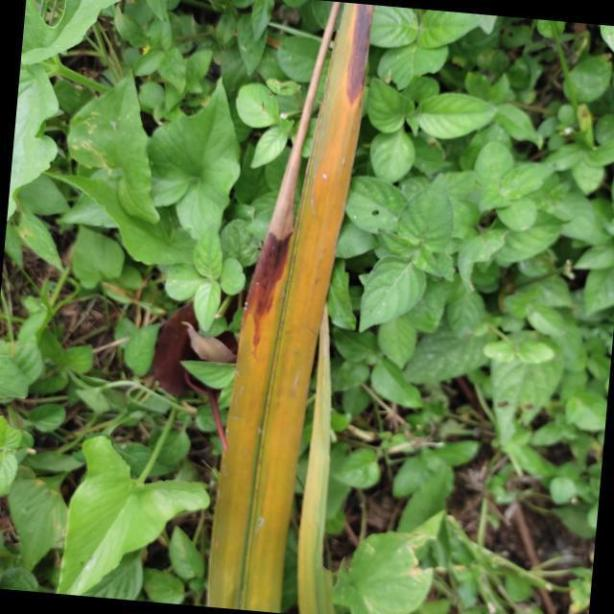Megnesium: (206, 0, 377, 614)
